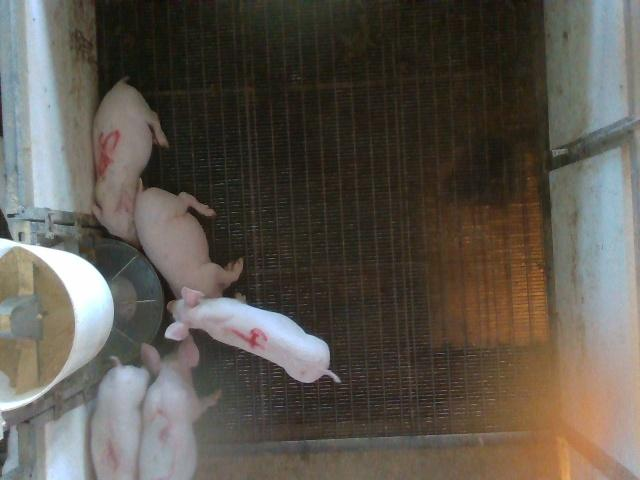pig-1: (91, 359, 150, 479)
pig-3: (139, 336, 204, 478)
pig-4: (165, 288, 340, 382)
pig-5: (92, 78, 169, 246)
